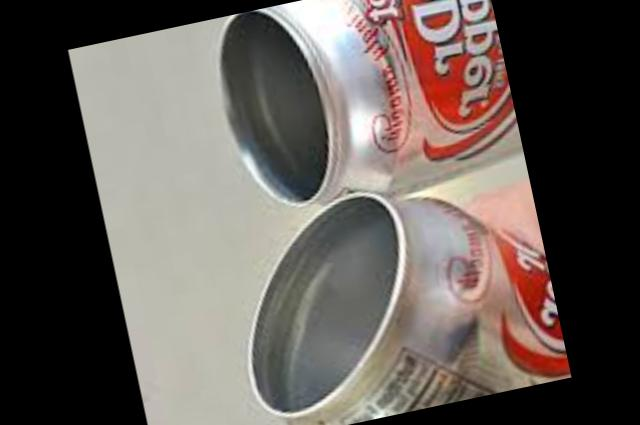metal: (245, 189, 567, 425), (217, 0, 520, 202)
